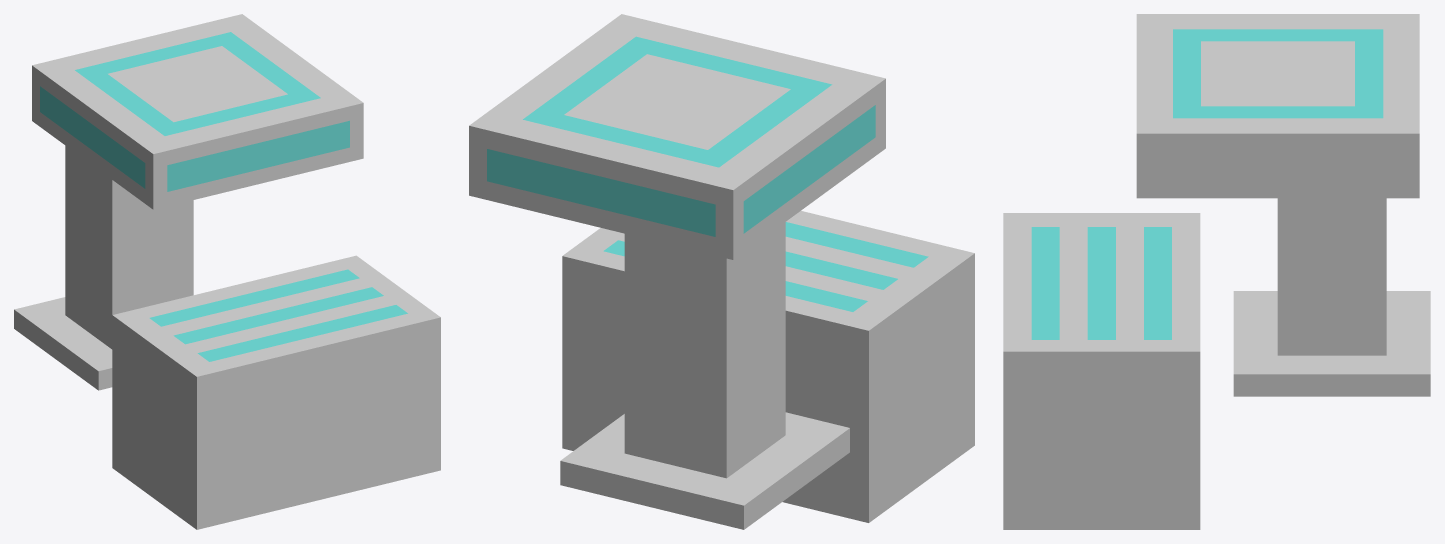
Rendered from research.fbx.
3 renders of one model, left to right at view 1: azimuth 30°, elevation 25°; view 2: azimuth 150°, elevation 25°; view 3: azimuth 270°, elevation 25°, orthographic. The views are drawn at different scales.
Visible parts, largest first — view 1: science; view 2: science; view 3: science.
Part boxes in pixels (<box>): science: <box>14,14,440,529</box>; science: <box>469,14,974,529</box>; science: <box>1003,14,1430,529</box>.
Size of the model in its own units: 334 by 432 by 434.
